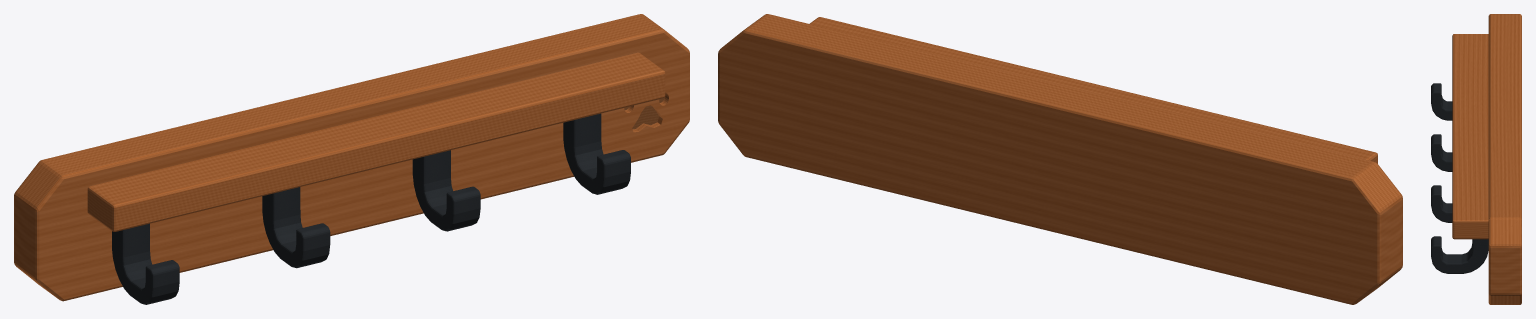
The model's file is PM_EquipmentRack.fbx.
The picture shows the model from 3 angles, left to right: view 1: azimuth 30°, elevation 25°; view 2: azimuth 150°, elevation 25°; view 3: azimuth 270°, elevation 25°; orthographic projection. The views are drawn at different scales.
Visible parts, largest first — view 1: PM_EquipmentRack; view 2: PM_EquipmentRack; view 3: PM_EquipmentRack.
Boxes of the visible parts, x1,y1,x2,y2 form: PM_EquipmentRack: [14, 14, 689, 304]; PM_EquipmentRack: [718, 14, 1402, 304]; PM_EquipmentRack: [1431, 14, 1521, 304].
Bounding box in the file's own units: 174 × 32 × 30.1.
1 material, 1 textured.
